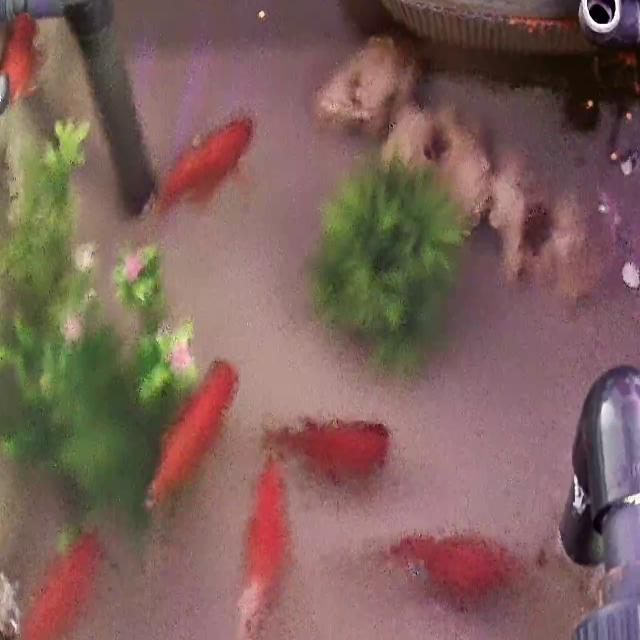fish: (144, 356, 240, 515), (152, 114, 259, 220), (8, 526, 104, 640), (234, 449, 288, 640), (391, 531, 517, 606), (274, 414, 386, 484), (0, 8, 42, 105)
